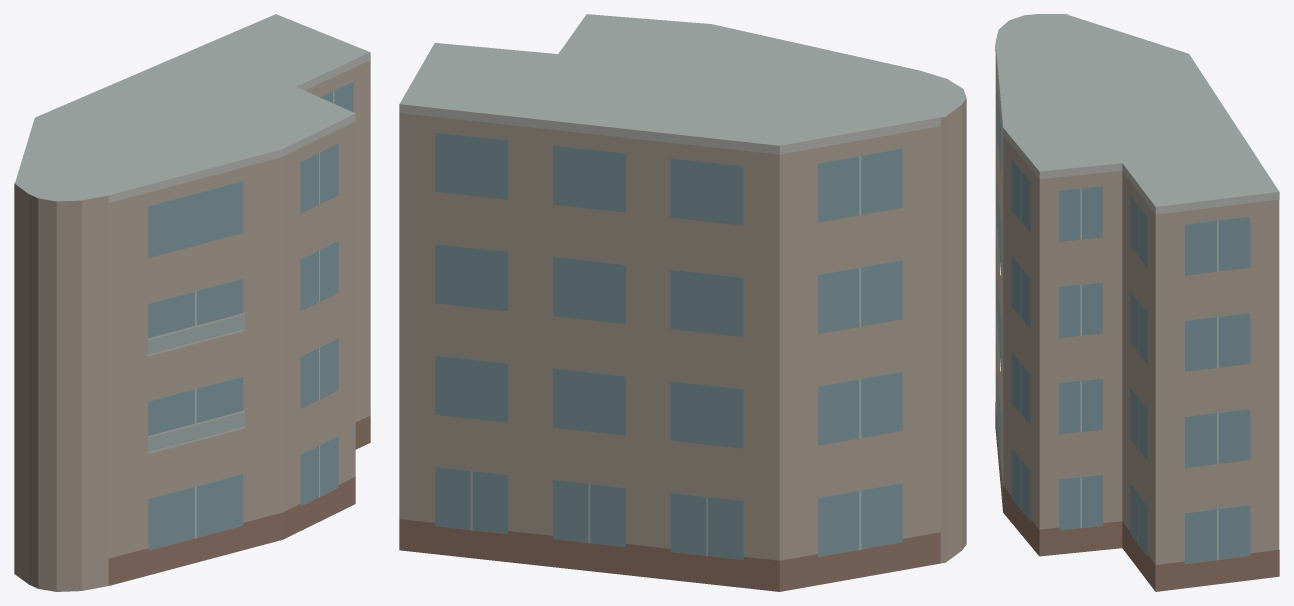
The model's file is survey-upis-33031743.glb.
The picture shows the model from 3 angles, left to right: view 1: azimuth 30°, elevation 25°; view 2: azimuth 150°, elevation 25°; view 3: azimuth 270°, elevation 25°; orthographic projection. The views are drawn at different scales.
Parts seen in each view (by area): view 1: survey-upis-33031743.tmp; view 2: survey-upis-33031743.tmp; view 3: survey-upis-33031743.tmp.
Boxes of the visible parts, <box> form: survey-upis-33031743.tmp: <box>14,14,370,591</box>; survey-upis-33031743.tmp: <box>399,14,966,591</box>; survey-upis-33031743.tmp: <box>995,14,1279,591</box>.
Size of the model in its own units: 13.24 by 12.3 by 8.24.
